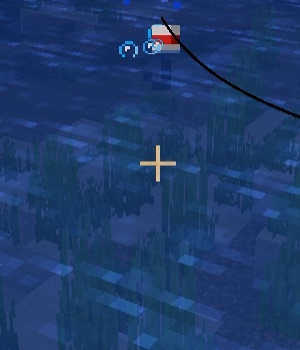up: (143, 21, 184, 89)
